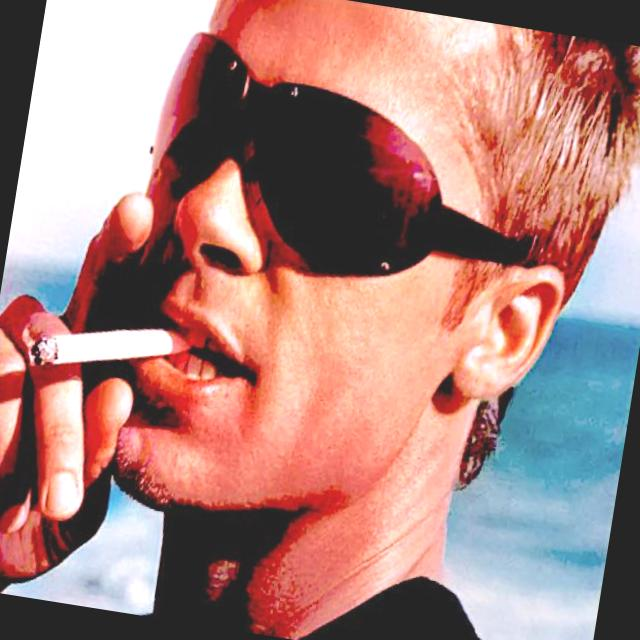smoke: (0, 233, 239, 539)
